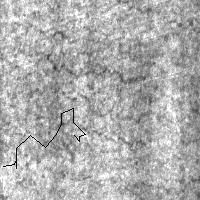crazing: (37, 89, 152, 149), (45, 29, 148, 83), (3, 108, 85, 168)
